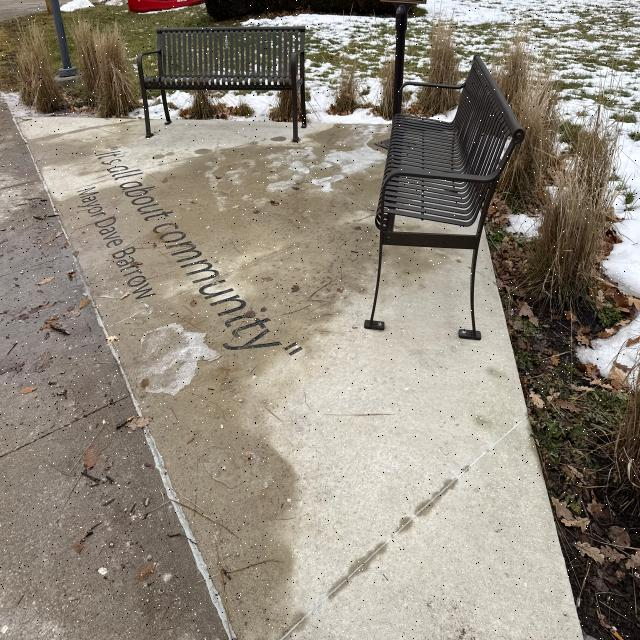Bench: (137, 16, 310, 145)
